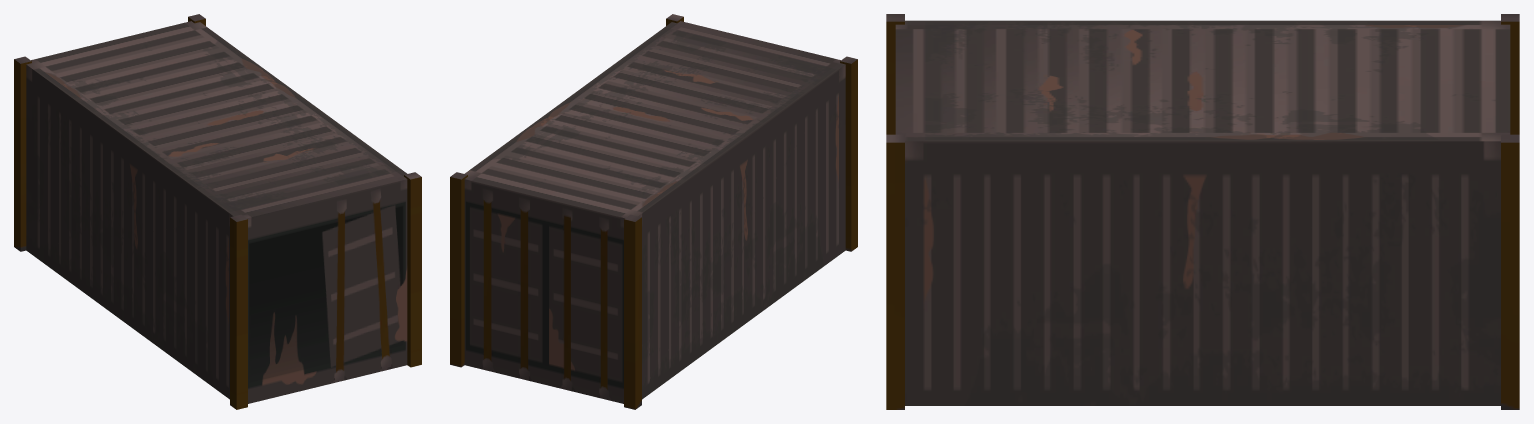
File: Building_AncientMediumContainer__C.obj
The picture shows the model from 3 angles, left to right: view 1: azimuth 30°, elevation 25°; view 2: azimuth 150°, elevation 25°; view 3: azimuth 270°, elevation 25°; orthographic projection. The views are drawn at different scales.
Visible parts, largest first — view 1: Body; view 2: Body; view 3: Body.
Part boxes in pixels (x1,y1,x2,y2): Body: (14, 14, 421, 409); Body: (450, 14, 857, 409); Body: (886, 14, 1519, 409).
Bounding box in the file's own units: 1.98 × 1.92 × 4.12.
1 material, 1 textured.
